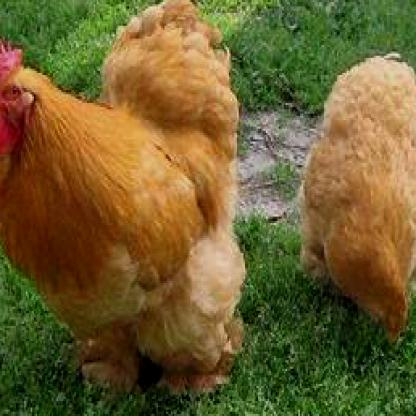chicken: (1, 0, 244, 393), (300, 55, 415, 348)
